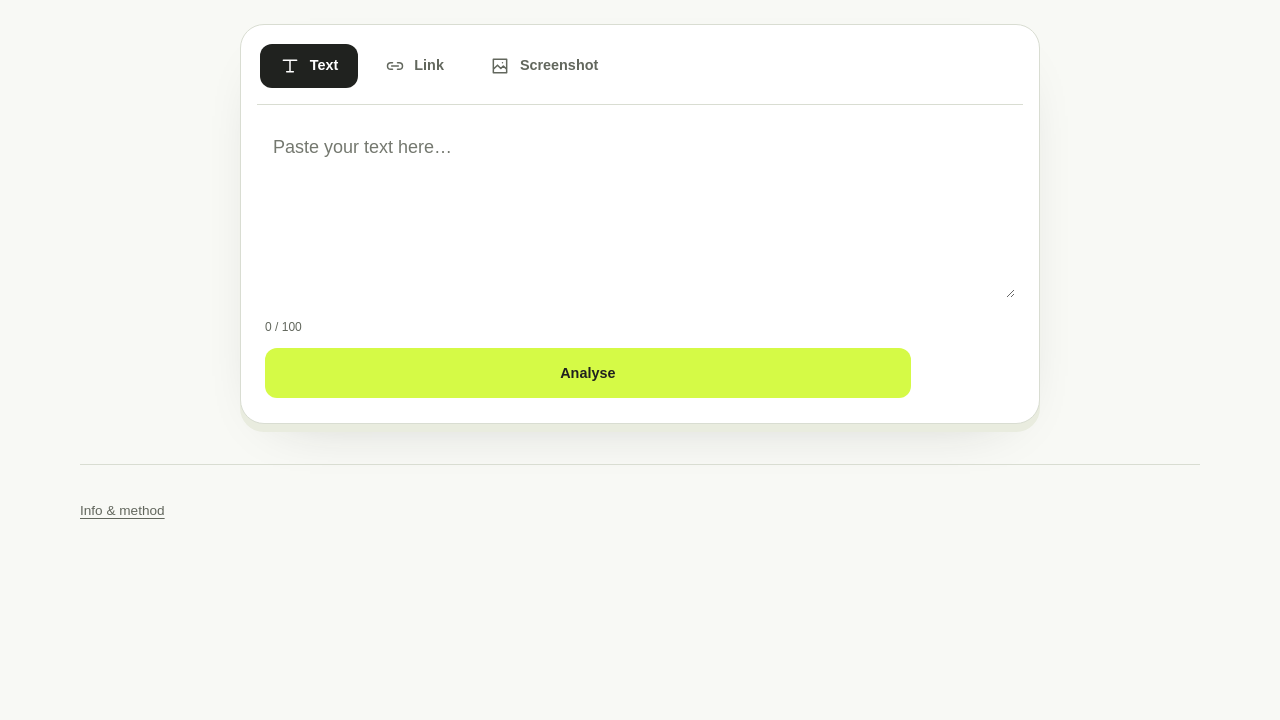
Test: mandatory URL extraction review › requires confirmation and invalidates it on editing in en
The width and height of the screenshot is (1280, 720).
Click the tab "Link" at (414, 66), box [365, 44, 464, 88]
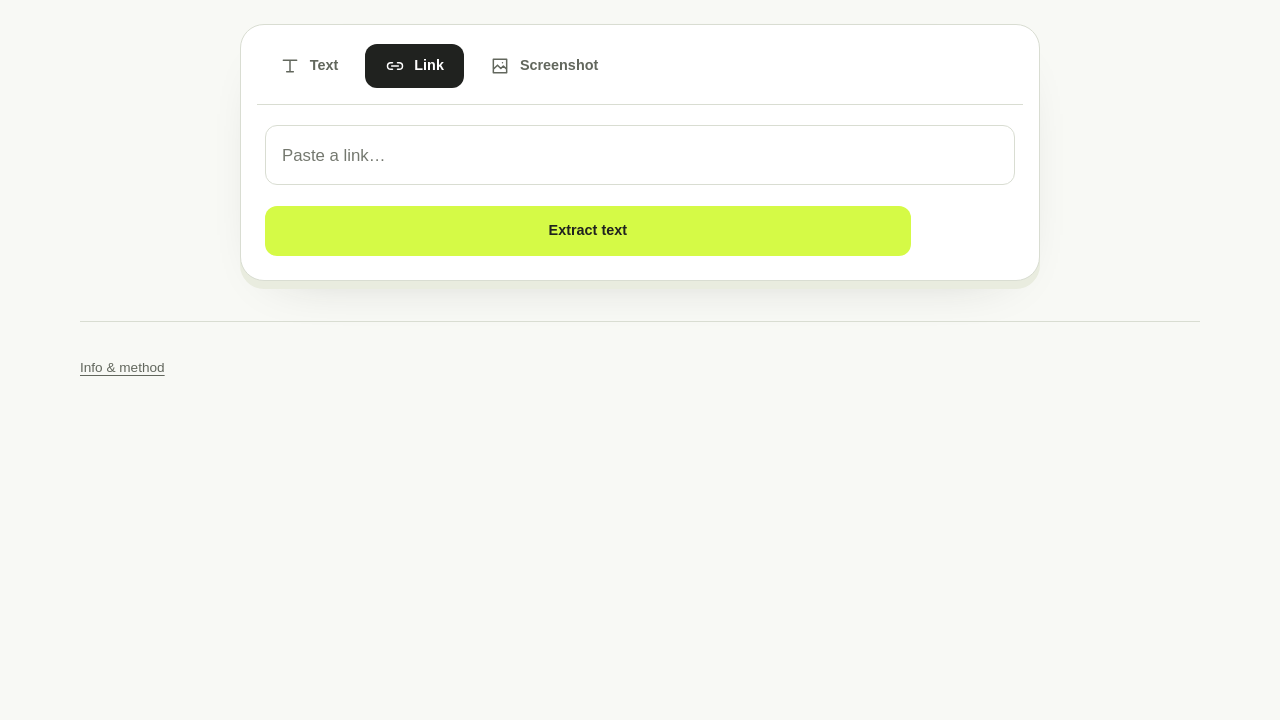
Type "https://example.com/content" into the field at (640, 155), box [265, 125, 1015, 185]
Click the button "Extract text" at (588, 231), box [265, 206, 911, 256]
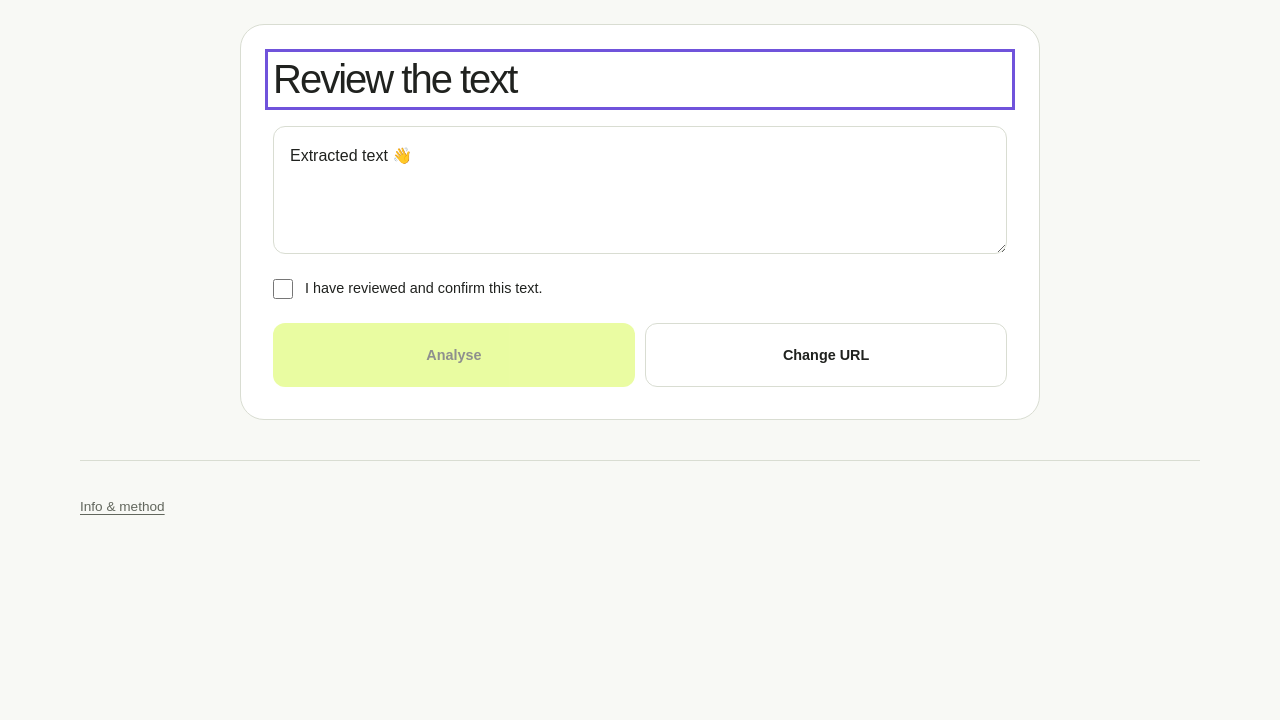
Result: the button "Analyse" is disabled at [273, 323, 635, 387]
Click the checkbox labelled "I have reviewed and confirm this text." at (283, 289), box [273, 279, 293, 299]
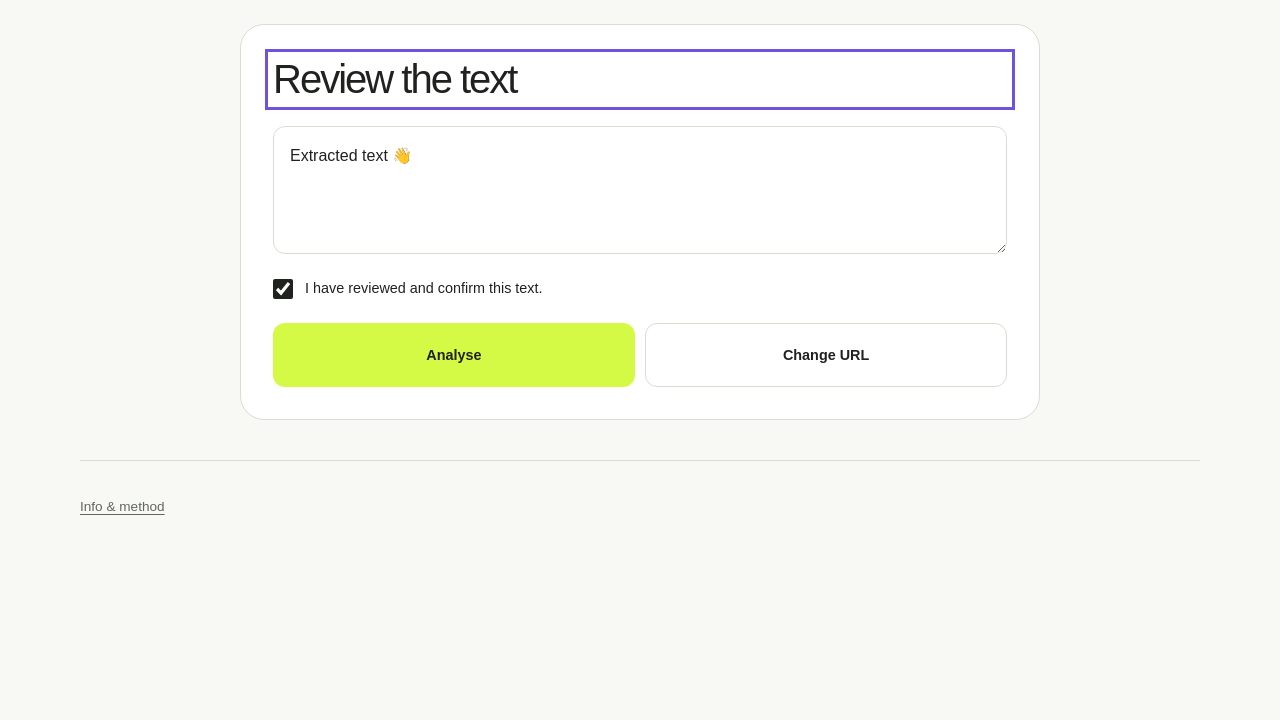
Result: the button "Analyse" is enabled at [273, 323, 635, 387]
Replace the text in the text box with "Edited extracted text 👋" at (640, 190), box [273, 126, 1007, 254]
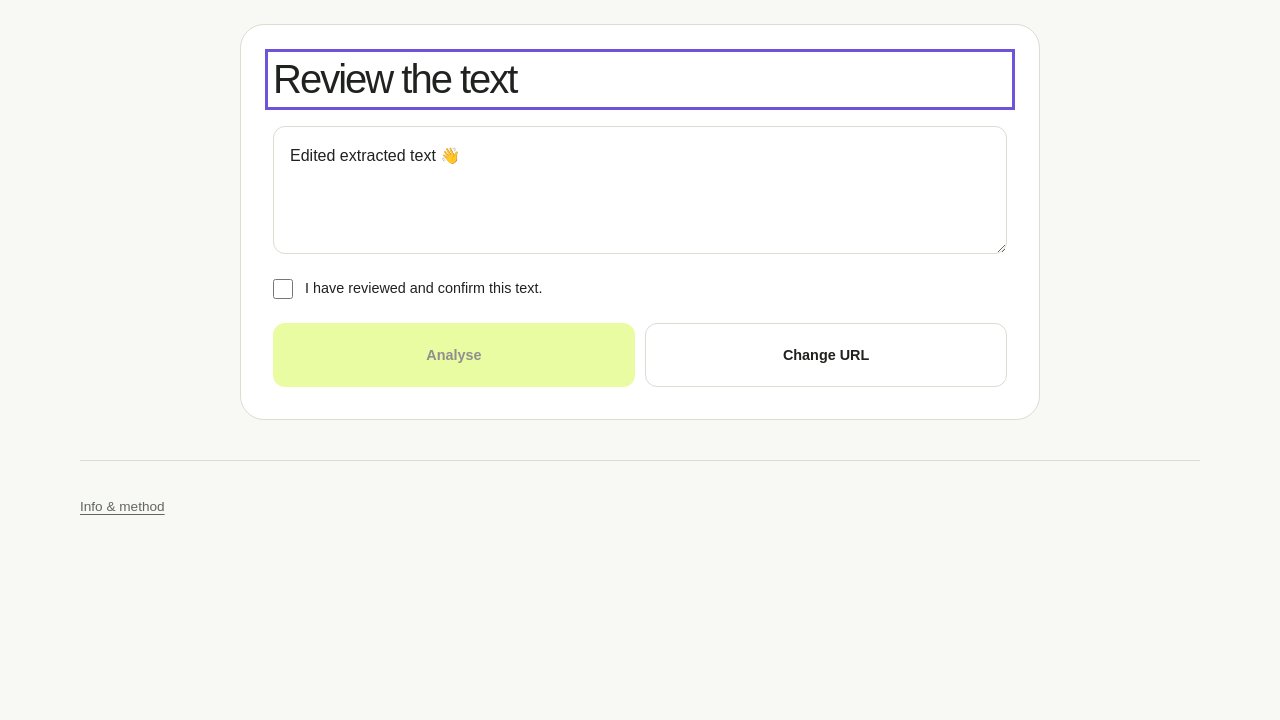
Result: the checkbox labelled "I have reviewed and confirm this text." is not checked at [273, 279, 293, 299]
Result: the button "Analyse" is disabled at [273, 323, 635, 387]
Submit the form "Analyse", box [273, 126, 1007, 387]
Click the checkbox labelled "I have reviewed and confirm this text." at (283, 289), box [273, 279, 293, 299]
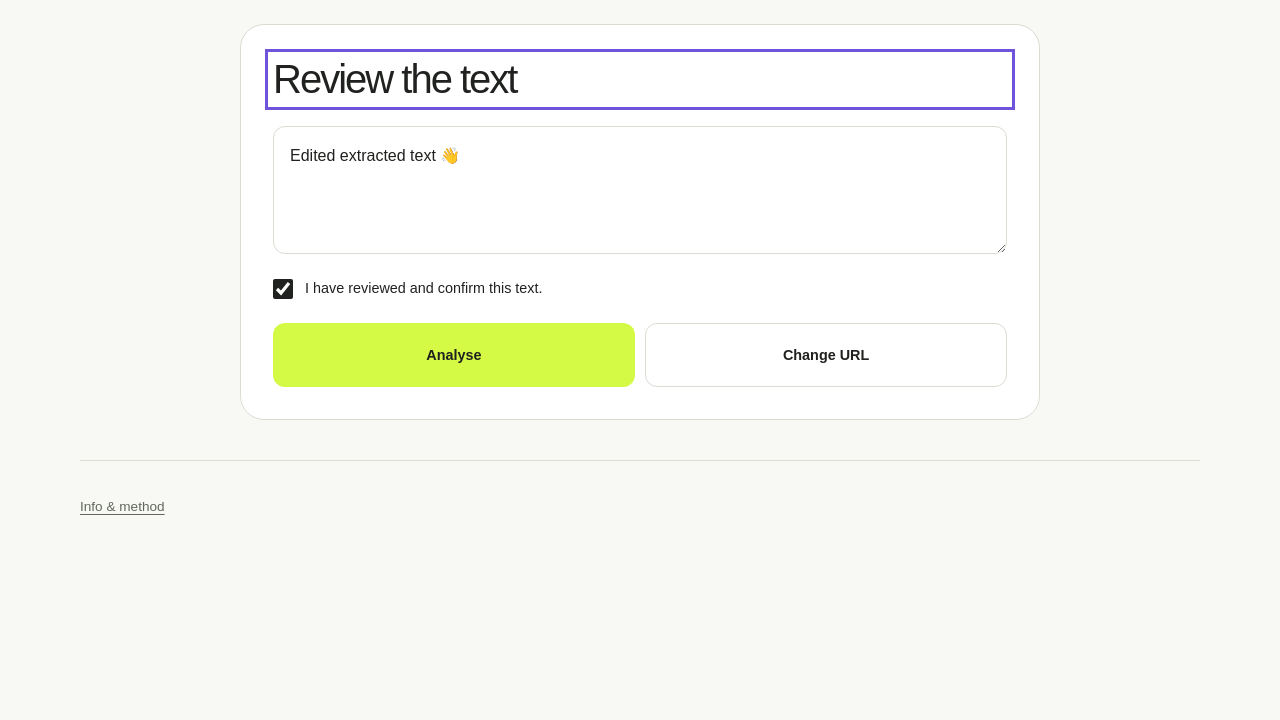
Click the button "Analyse" at (454, 355), box [273, 323, 635, 387]
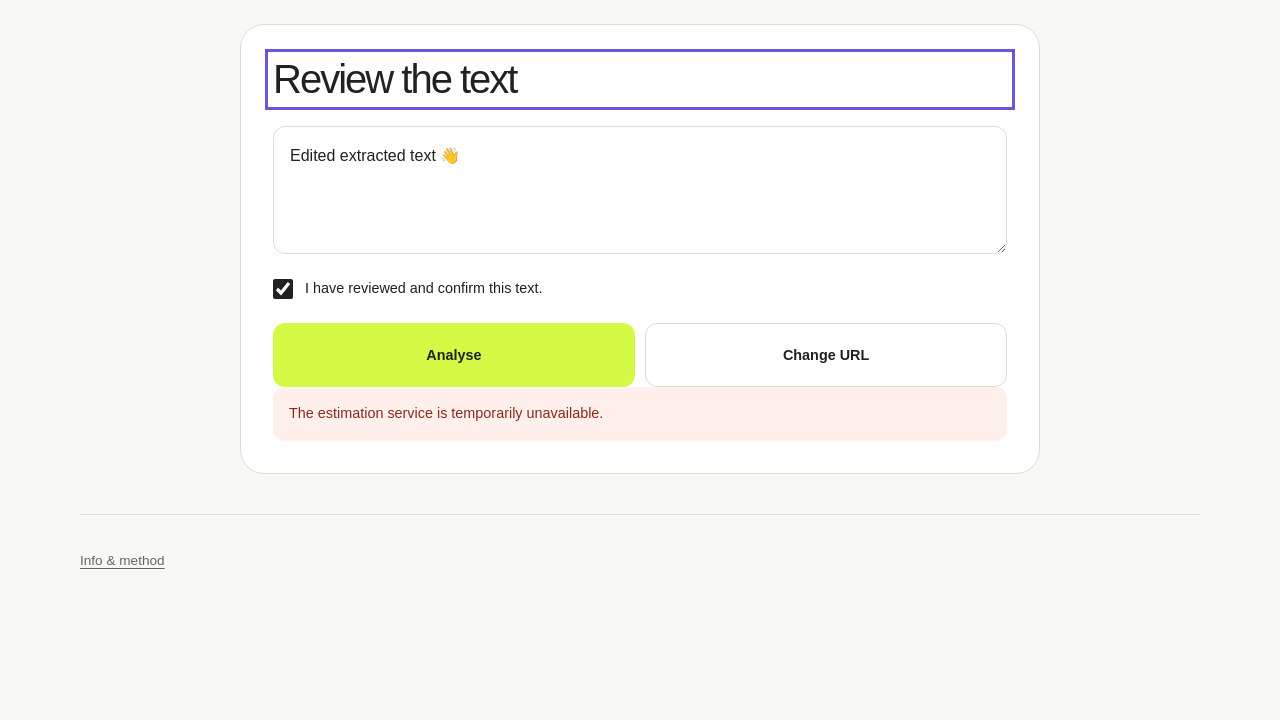
Result: the message reads "The estimation service is temporarily unavailable." at [289, 405, 603, 421]
